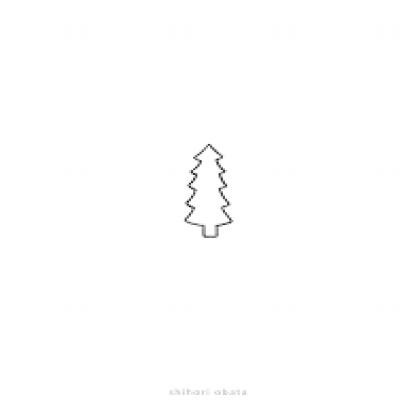crown_dizzy: (181, 141, 236, 226)
trunk_straight: (199, 227, 223, 235)
